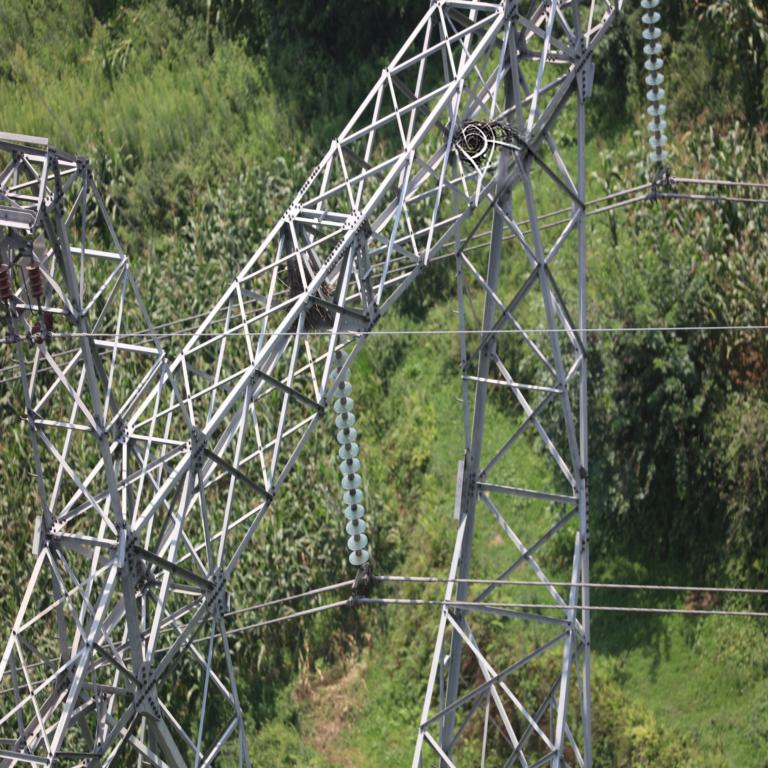nest: (441, 117, 507, 165), (285, 265, 337, 325)
